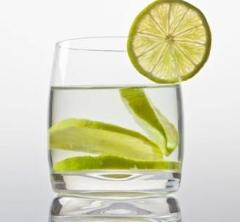glass: (50, 38, 188, 198)
